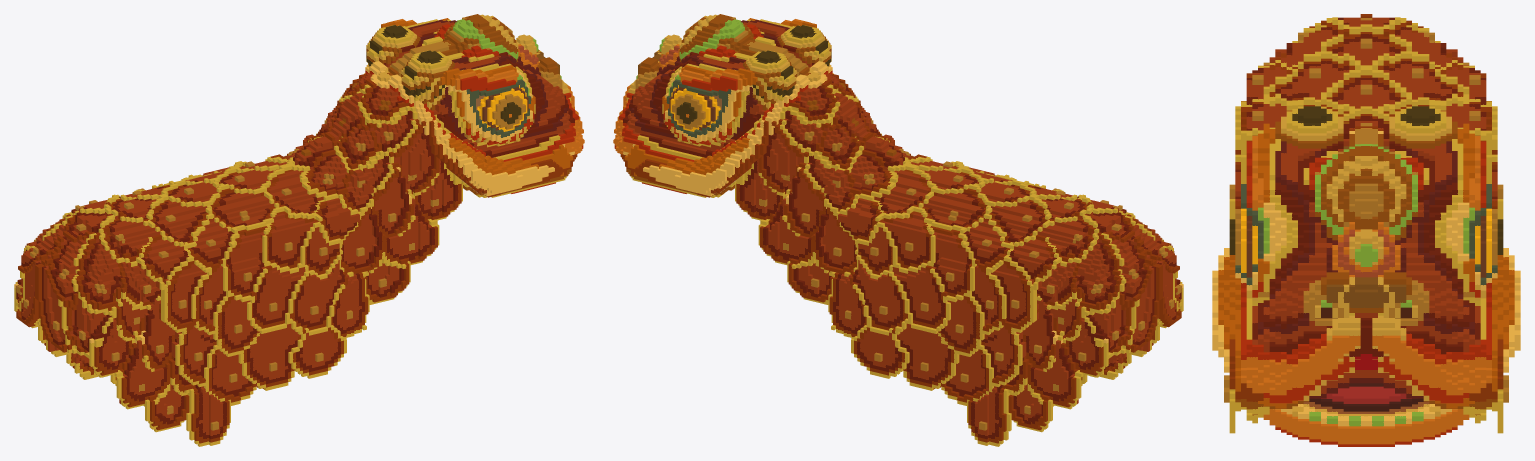
The model's file is 舞狮头套.gltf.
3 renders of one model, left to right at view 1: azimuth 30°, elevation 25°; view 2: azimuth 150°, elevation 25°; view 3: azimuth 270°, elevation 25°, orthographic. The views are drawn at different scales.
Visible parts, largest first — view 1: Object; view 2: Object; view 3: Object.
Boxes of the visible parts, <box> form: Object: <box>14,14,584,446</box>; Object: <box>613,14,1183,446</box>; Object: <box>1212,14,1520,446</box>.
Bounding box in the file's own units: 165 × 96 × 54.
Materials: 1 (1 with a texture image).
